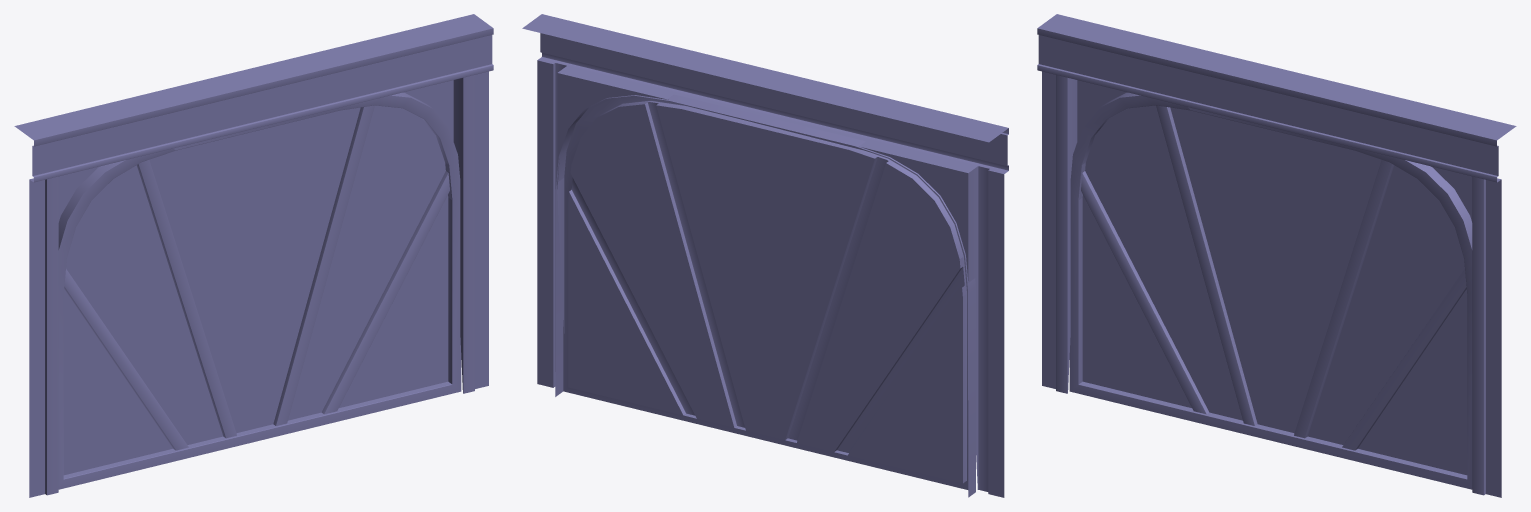
Rendered from M_A_window_05.fbx.
3 views of the same model, side by side, from view 1: azimuth 30°, elevation 25°; view 2: azimuth 150°, elevation 25°; view 3: azimuth 330°, elevation 25° (orthographic).
Visible parts, largest first — view 1: M_A_window_05; view 2: M_A_window_05; view 3: M_A_window_05.
Boxes of the visible parts, x1=… form: M_A_window_05: x1=14, y1=14, x2=493, y2=497; M_A_window_05: x1=522, y1=14, x2=1008, y2=497; M_A_window_05: x1=1037, y1=14, x2=1516, y2=497.
Bounding box in the file's own units: 400 × 300 × 29.46.
